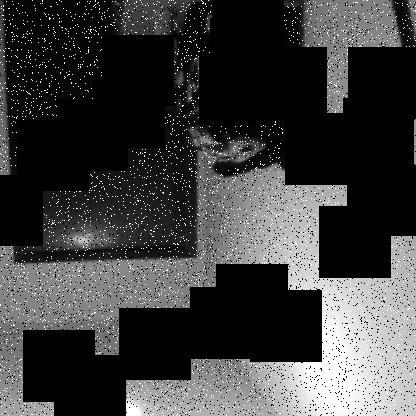Porte: (0, 0, 198, 265)
